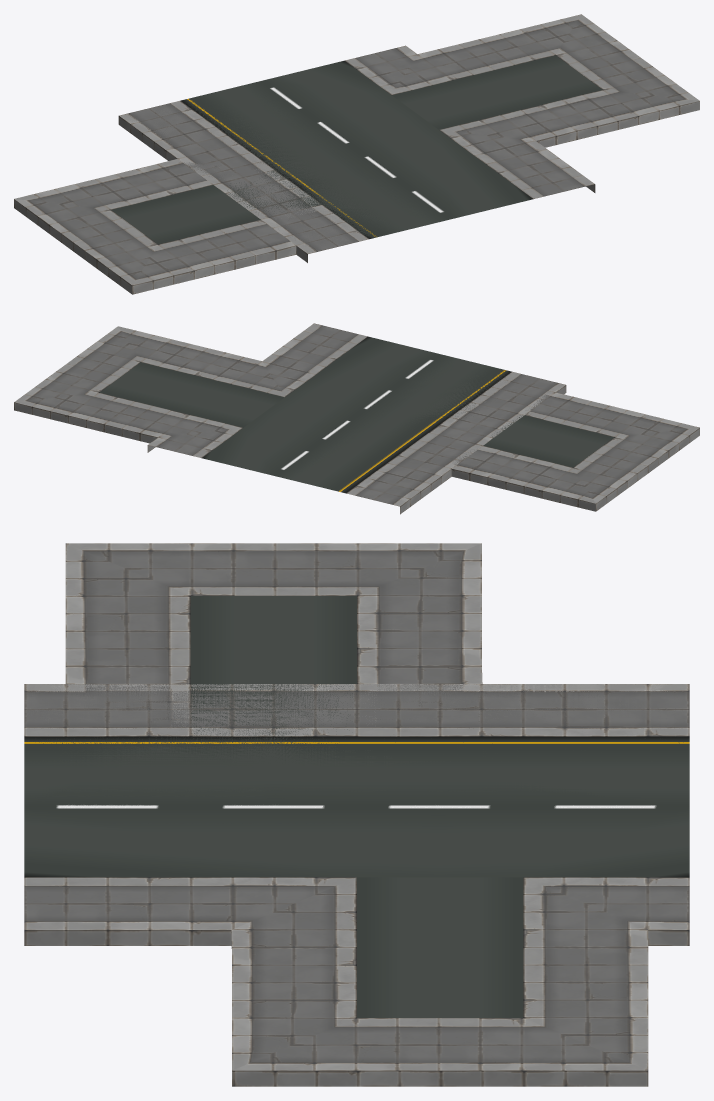
File: Road6.fbx
3 renders of one model, top to bottom at view 1: azimuth 30°, elevation 25°; view 2: azimuth 150°, elevation 25°; view 3: azimuth 270°, elevation 25°, orthographic. The views are drawn at different scales.
Visible parts, largest first — view 1: polySurface30, polySurface33; view 2: polySurface30, polySurface33; view 3: polySurface30, polySurface33.
Part boxes in pixels (<box>): polySurface30: <box>118,14,699,262</box>; polySurface33: <box>14,81,450,294</box>; polySurface30: <box>14,323,566,514</box>; polySurface33: <box>245,355,699,511</box>; polySurface30: <box>24,684,689,1086</box>; polySurface33: <box>24,543,689,877</box>.
Bounding box in the file's own units: 22.51 × 0.3202 × 12.
